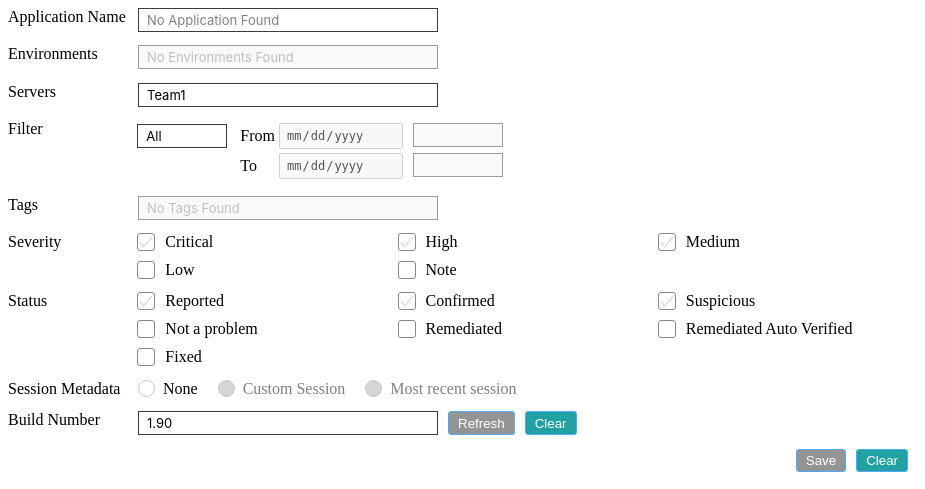
Scenario: Retrieve Vulnerabilities › should reset application and server data when "Clear" button is clicked
This screenshot has width=925, height=489.
Expected: the element with id "server" reads "Team1", top-left (147, 87), bottom-right (186, 103)
Expected: the element with id "buildNumber" reads "1.90", top-left (147, 415), bottom-right (172, 431)
Click the button with id "buildClear": (551, 423) top-left (525, 411), bottom-right (577, 435)
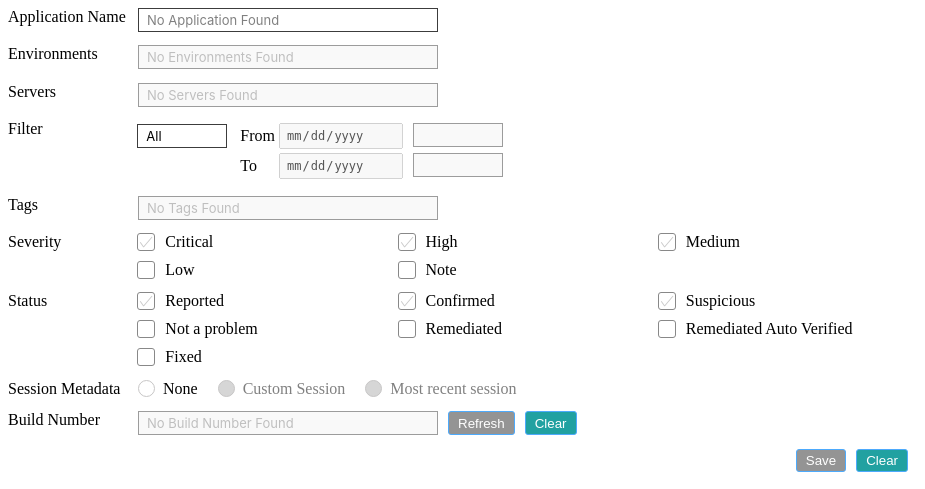
Expected: the element with id "server" reads "No Servers Found", top-left (147, 87), bottom-right (258, 103)
Expected: the element with id "buildNumber" reads "No Build Number Found", top-left (147, 415), bottom-right (294, 431)
